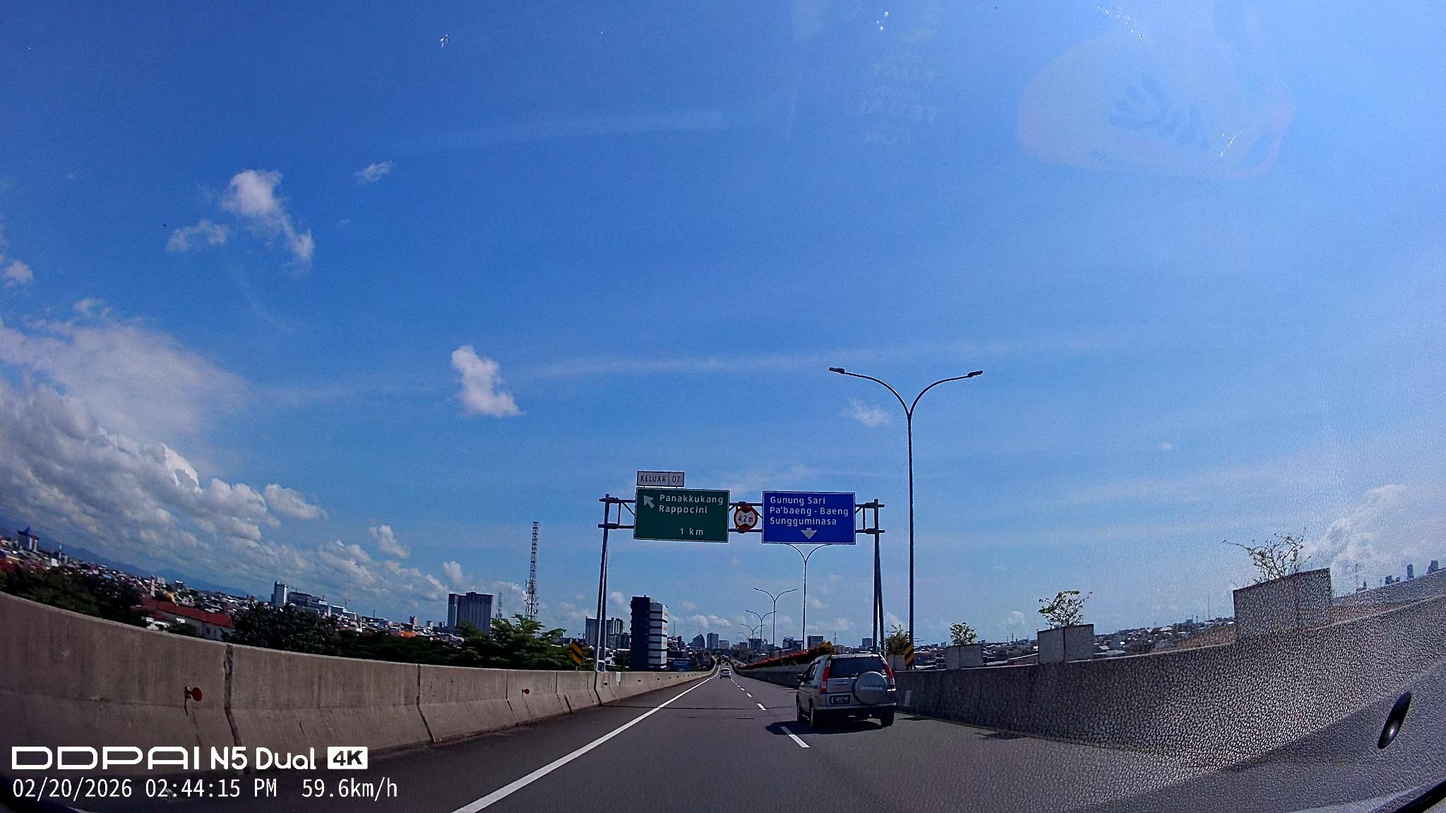rambu_teks: (633, 487, 730, 543), (762, 490, 856, 545)
